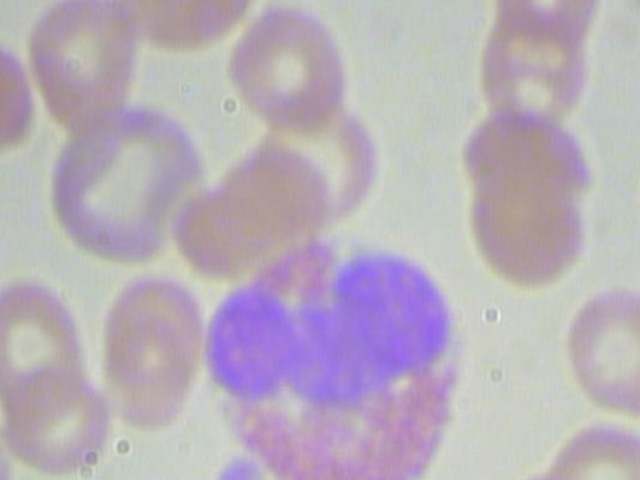RBC: (462, 161, 598, 290), (223, 0, 354, 133), (18, 0, 148, 129), (0, 276, 103, 426), (0, 356, 118, 478), (555, 279, 640, 425), (101, 0, 260, 67), (488, 0, 613, 43)
WBC: (190, 225, 471, 480)
